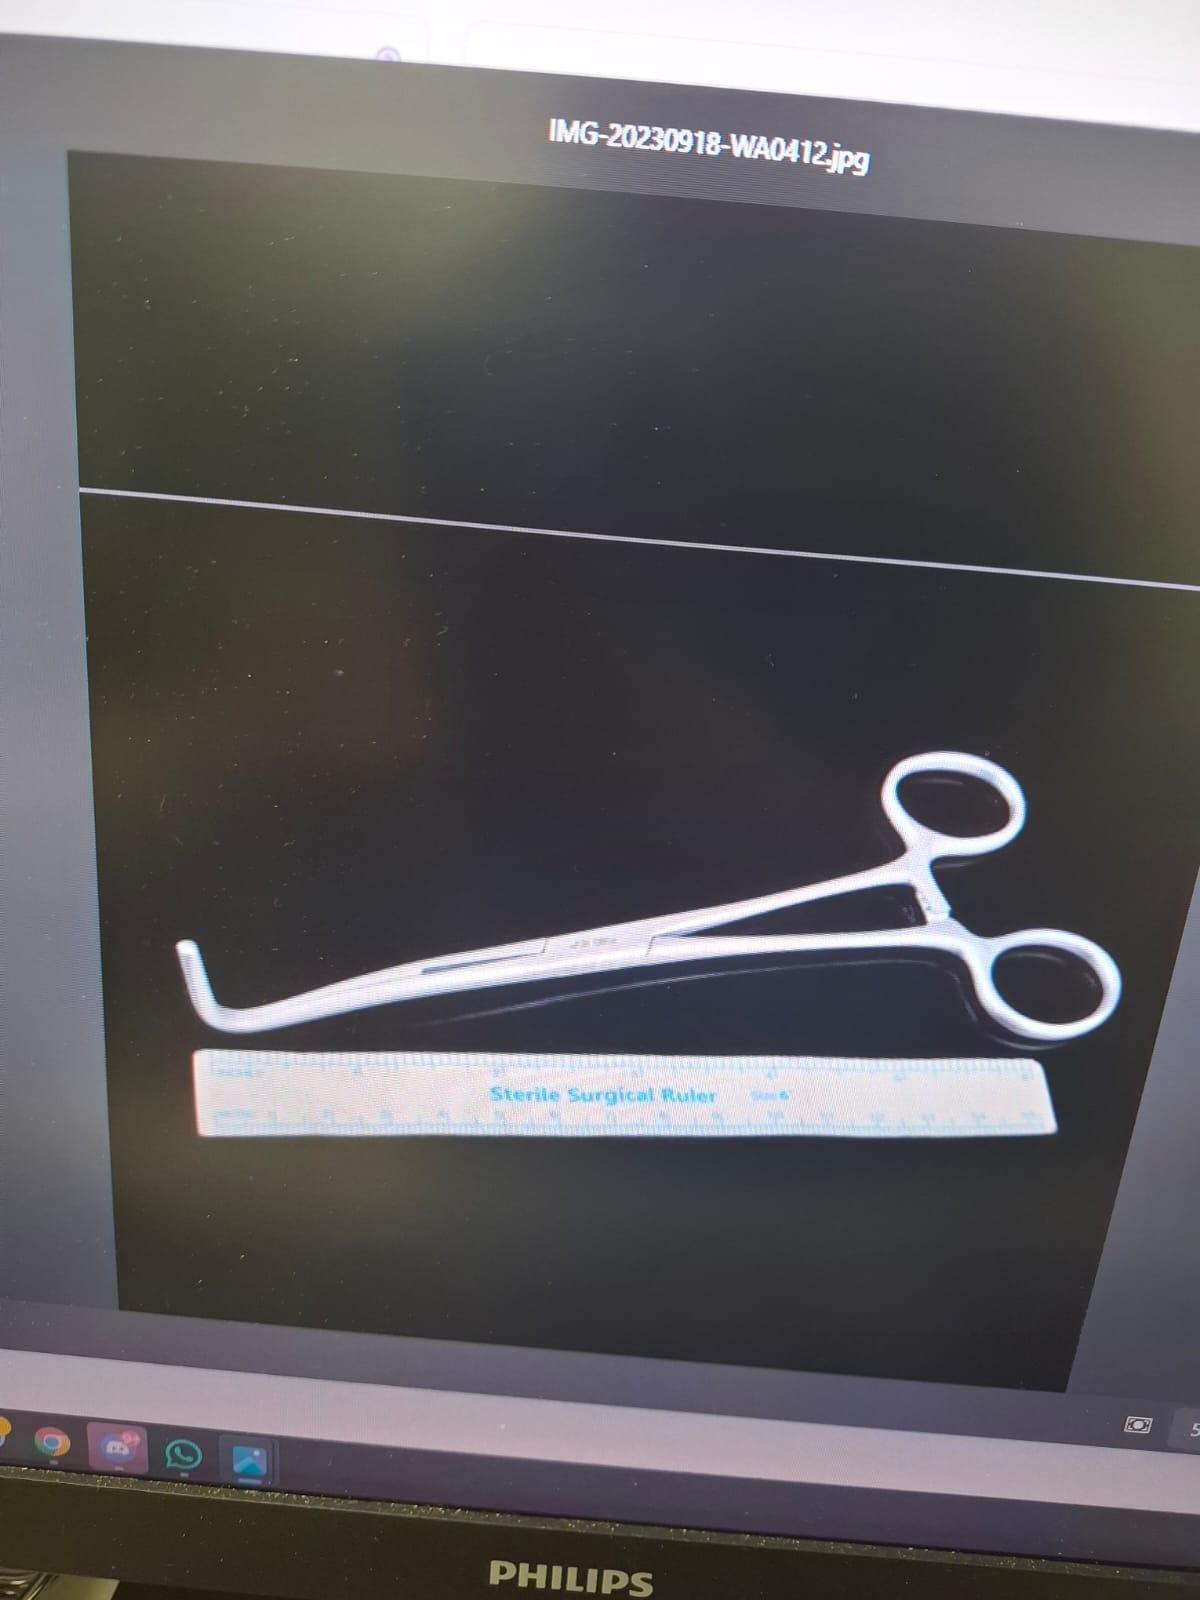Rectangle Cholecystectomy Forceps: (163, 702, 1120, 1062)
